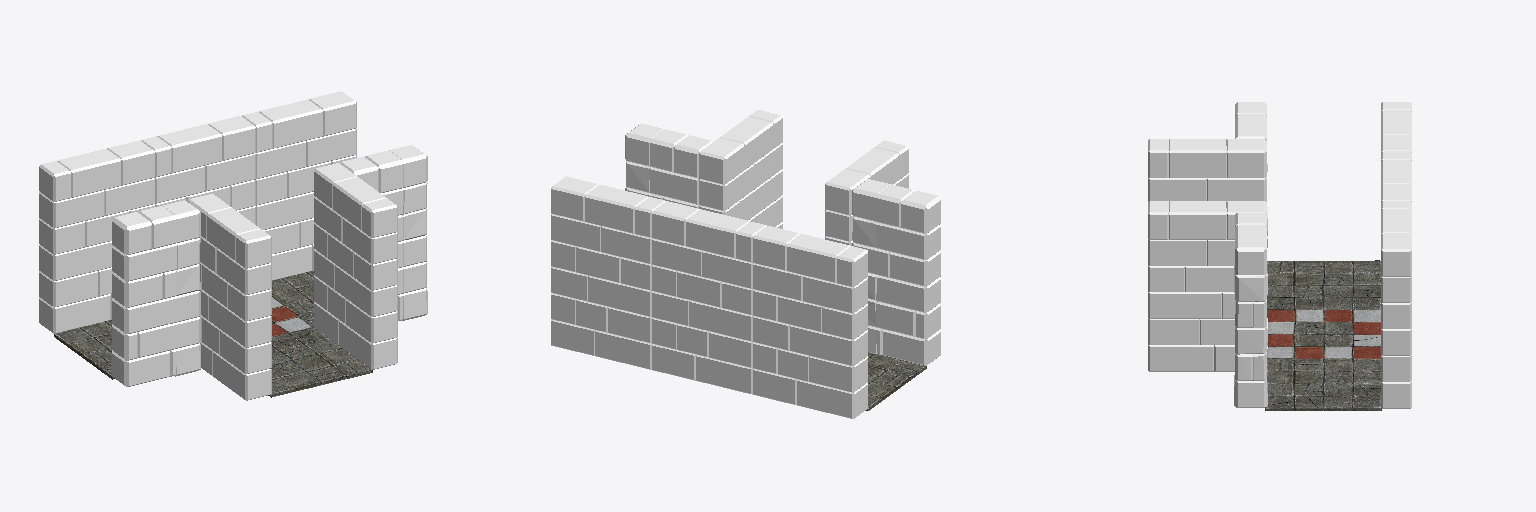
3 views of the same model, side by side, from view 1: azimuth 30°, elevation 25°; view 2: azimuth 150°, elevation 25°; view 3: azimuth 270°, elevation 25° (orthographic).
Parts seen in each view (by area): view 1: Box4150, Box4139, Box4149, Box3452, Box001ui004, Box4132, Box030, Box4148, Box4152, Box001ui006, Box024, Box026 (+1 smaller); view 2: Box4150, Box3452, Box4132, Box001ui004, Box4139, Box4149, Box001ui006, Box4148, Box024, Box4152; view 3: Box4139, Box4149, Box3452, Box026, Box4152, Box024, Box00234, Box4132, Box4150, Box001ui006, Box001ui004.
Boxes of the visible parts, x1=… form: Box4150: x1=39, y1=140, x2=154, y2=333; Box4139: x1=314, y1=163, x2=397, y2=369; Box4149: x1=188, y1=194, x2=271, y2=400; Box3452: x1=242, y1=91, x2=356, y2=280; Box001ui004: x1=112, y1=206, x2=176, y2=386; Box4132: x1=141, y1=116, x2=255, y2=224; Box030: x1=268, y1=327, x2=372, y2=397; Box4148: x1=163, y1=200, x2=200, y2=376; Box4152: x1=389, y1=145, x2=427, y2=320; Box001ui006: x1=340, y1=150, x2=403, y2=320; Box024: x1=54, y1=320, x2=114, y2=379; Box026: x1=272, y1=271, x2=313, y2=326; Box4150: x1=753, y1=226, x2=867, y2=418; Box3452: x1=551, y1=176, x2=665, y2=369; Box4132: x1=652, y1=201, x2=766, y2=394; Box001ui004: x1=876, y1=184, x2=940, y2=365; Box4139: x1=699, y1=110, x2=782, y2=228; Box4149: x1=825, y1=140, x2=908, y2=245; Box001ui006: x1=649, y1=129, x2=712, y2=208; Box4148: x1=852, y1=179, x2=890, y2=353; Box024: x1=866, y1=352, x2=926, y2=410; Box4152: x1=625, y1=123, x2=663, y2=196; Box4139: x1=1148, y1=201, x2=1266, y2=371; Box4149: x1=1148, y1=139, x2=1266, y2=201; Box3452: x1=1381, y1=201, x2=1411, y2=408; Box026: x1=1265, y1=359, x2=1381, y2=410; Box4152: x1=1234, y1=236, x2=1267, y2=407; Box024: x1=1267, y1=260, x2=1380, y2=309; Box00234: x1=1267, y1=310, x2=1380, y2=358; Box4132: x1=1381, y1=151, x2=1411, y2=201; Box4150: x1=1381, y1=102, x2=1411, y2=152; Box001ui006: x1=1235, y1=213, x2=1266, y2=237; Box001ui004: x1=1235, y1=102, x2=1266, y2=126.
Size of the model in its own units: 6.05 by 3.08 by 4.54.
Materials: 3 (2 with a texture image).